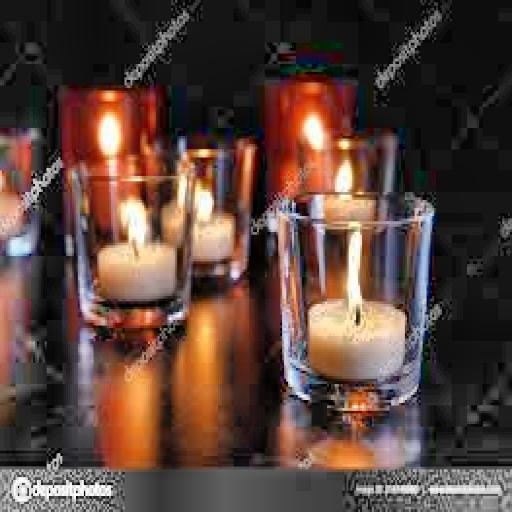fire: (344, 227, 370, 320), (117, 194, 152, 250)
